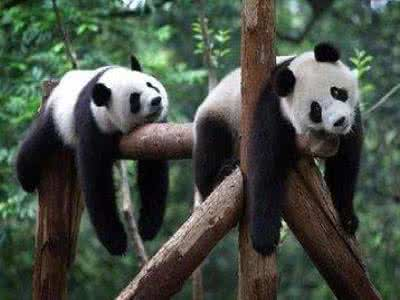panda: (188, 38, 368, 257), (16, 28, 171, 255)
